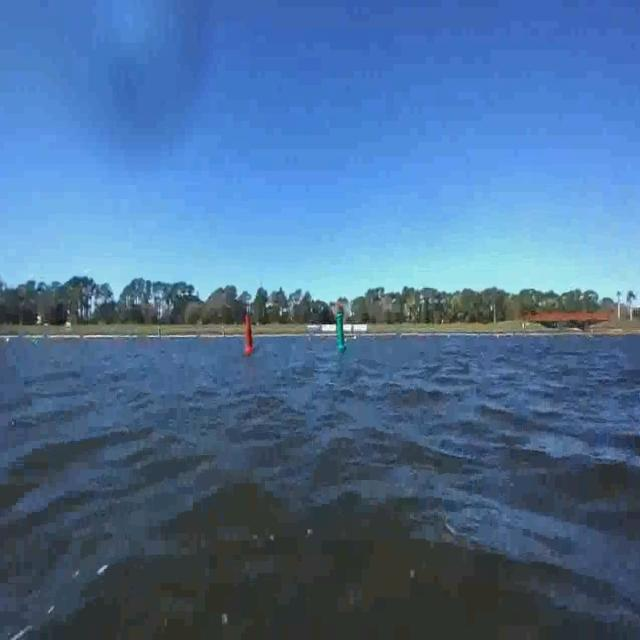green-column-buoy: (332, 306, 353, 368)
red-column-buoy: (241, 308, 258, 356)
